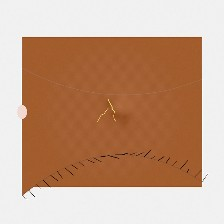corneal_ulcer: (86, 97, 132, 134)
